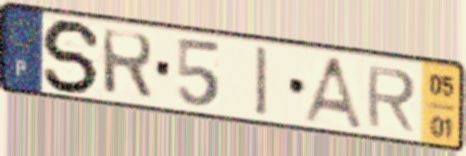5: (174, 38, 223, 109)
A: (298, 54, 366, 132)
I: (253, 43, 271, 120)
R: (99, 26, 156, 103), (364, 64, 419, 135)
S: (39, 17, 106, 96)
